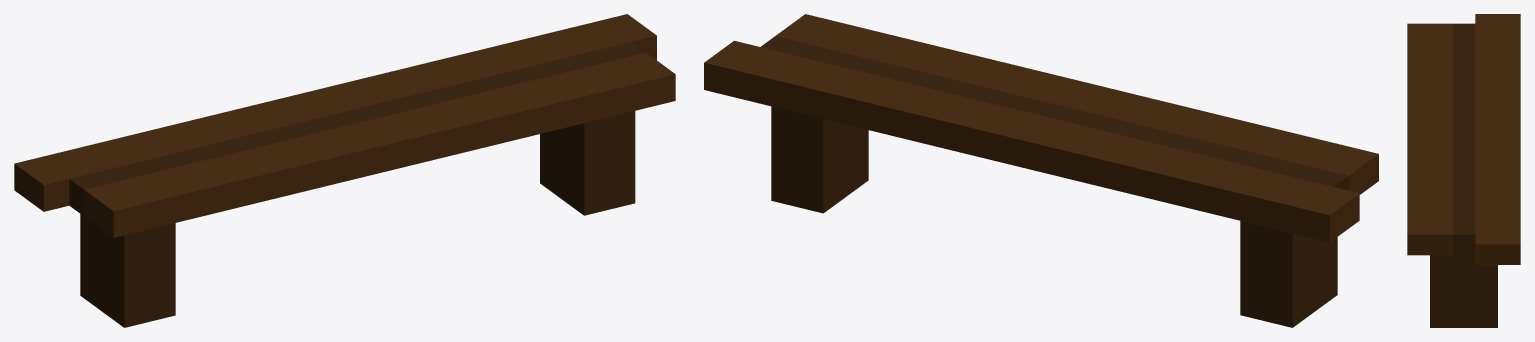
Rendered from lavka.obj.
3 views of the same model, side by side, from view 1: azimuth 30°, elevation 25°; view 2: azimuth 150°, elevation 25°; view 3: azimuth 270°, elevation 25° (orthographic). The views are drawn at different scales.
Bounding box in the file's own units: 2.4 × 0.5 × 0.5.
1 material, 1 textured.
